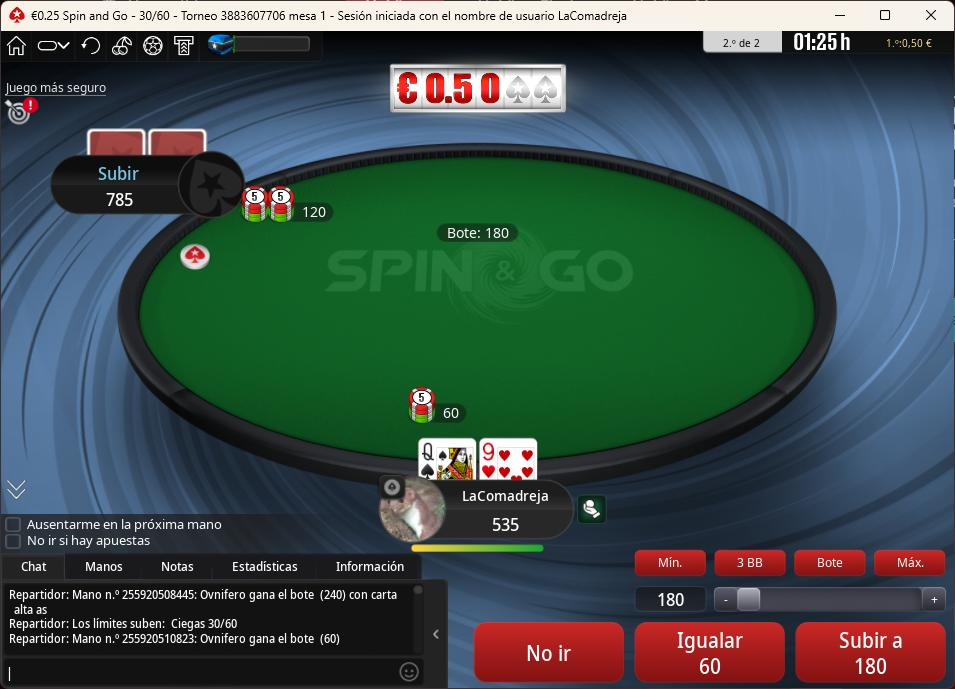ButtonCall: (629, 619, 785, 682)
ButtonFold: (474, 617, 622, 683)
ButtonMaxRaise: (875, 549, 945, 575)
ButtonMinRaise: (634, 550, 709, 578)
ButtonPotRaise: (794, 547, 866, 579)
ButtonRaise: (792, 616, 950, 686)
Dealer: (180, 242, 214, 273)
HiddenCards: (84, 129, 213, 159)
Player: (49, 152, 244, 214)
PlayerBet: (236, 183, 342, 232)
PlayerChips: (484, 519, 531, 538), (99, 192, 140, 209)
Pot: (434, 222, 519, 245)
PrincipalBet: (405, 380, 469, 429)
PrincipalCards: (414, 433, 554, 508)
PrincipalCards1: (414, 435, 478, 482)
PrincipalCards2: (479, 436, 543, 482)
PrincipalPlayer: (372, 470, 570, 543)
SmallBigBlind: (130, 8, 180, 26)
